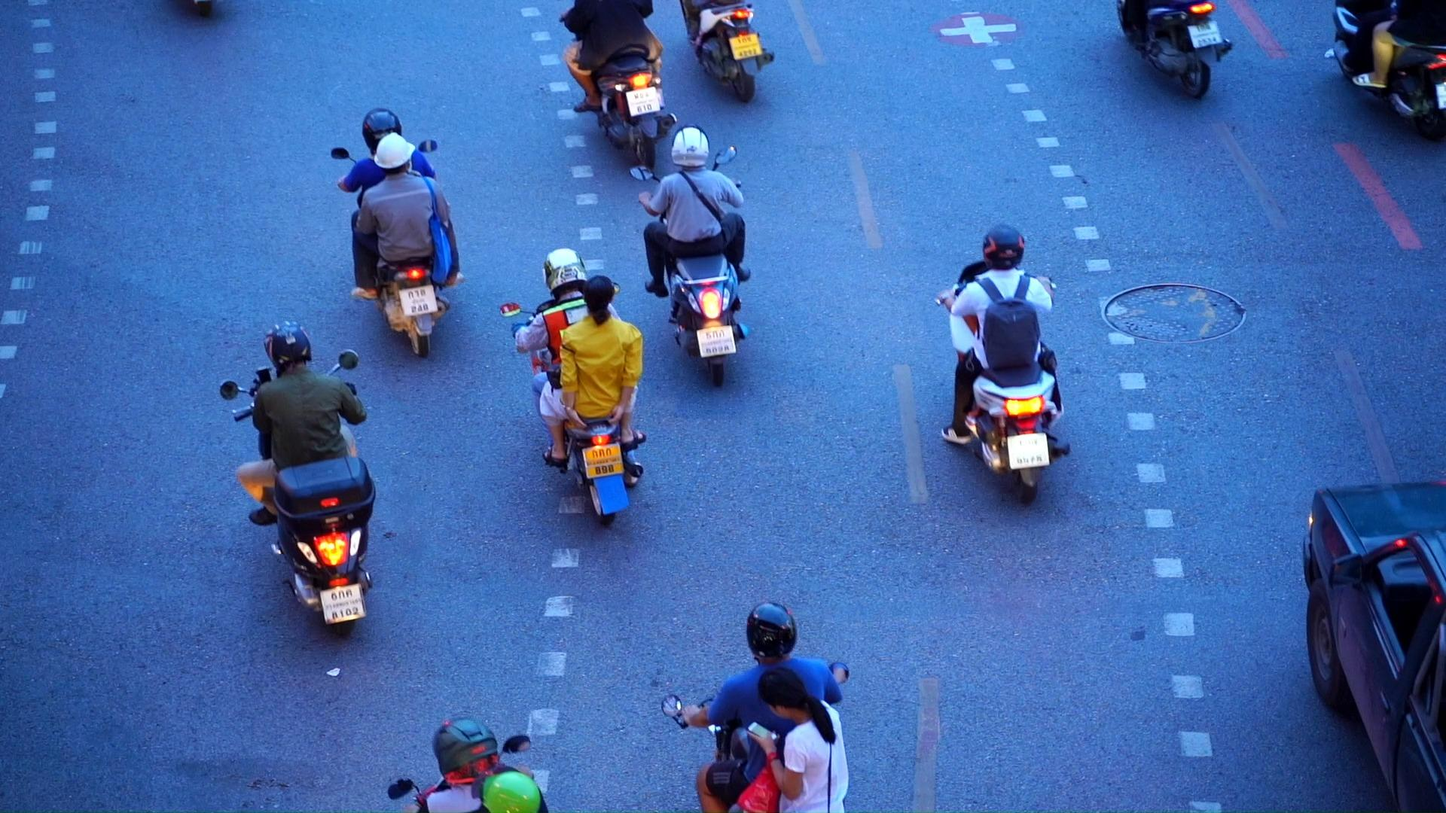driver: (218, 318, 377, 639), (498, 247, 648, 527), (660, 602, 851, 813), (934, 223, 1071, 506), (331, 107, 466, 360), (627, 123, 752, 388), (559, 1, 679, 171), (1324, 0, 1446, 143), (388, 715, 550, 813), (1114, 0, 1234, 100), (681, 1, 775, 103)
helmet: (431, 716, 499, 787), (472, 764, 540, 813), (747, 601, 797, 665), (263, 319, 313, 371), (542, 247, 587, 297), (983, 223, 1025, 271), (362, 108, 402, 156), (374, 132, 416, 175), (671, 123, 710, 169)
no-helmet: (758, 667, 833, 720), (582, 275, 615, 326)
